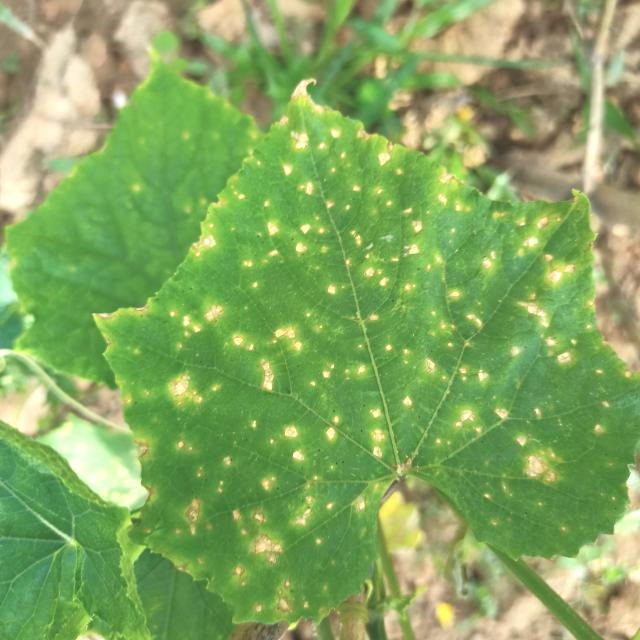disease_cucumber: (159, 120, 475, 408), (306, 211, 594, 496), (139, 360, 384, 611)
